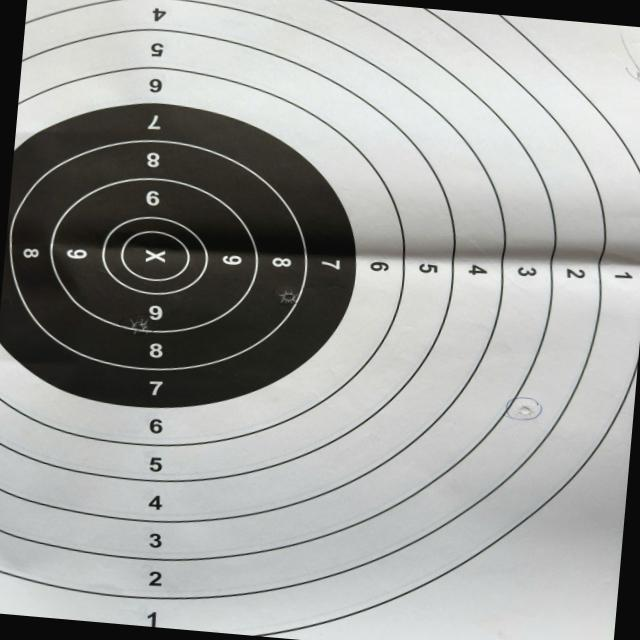bullet: (517, 402, 533, 414), (278, 289, 294, 301), (135, 320, 147, 331)
target: (0, 0, 640, 640)
